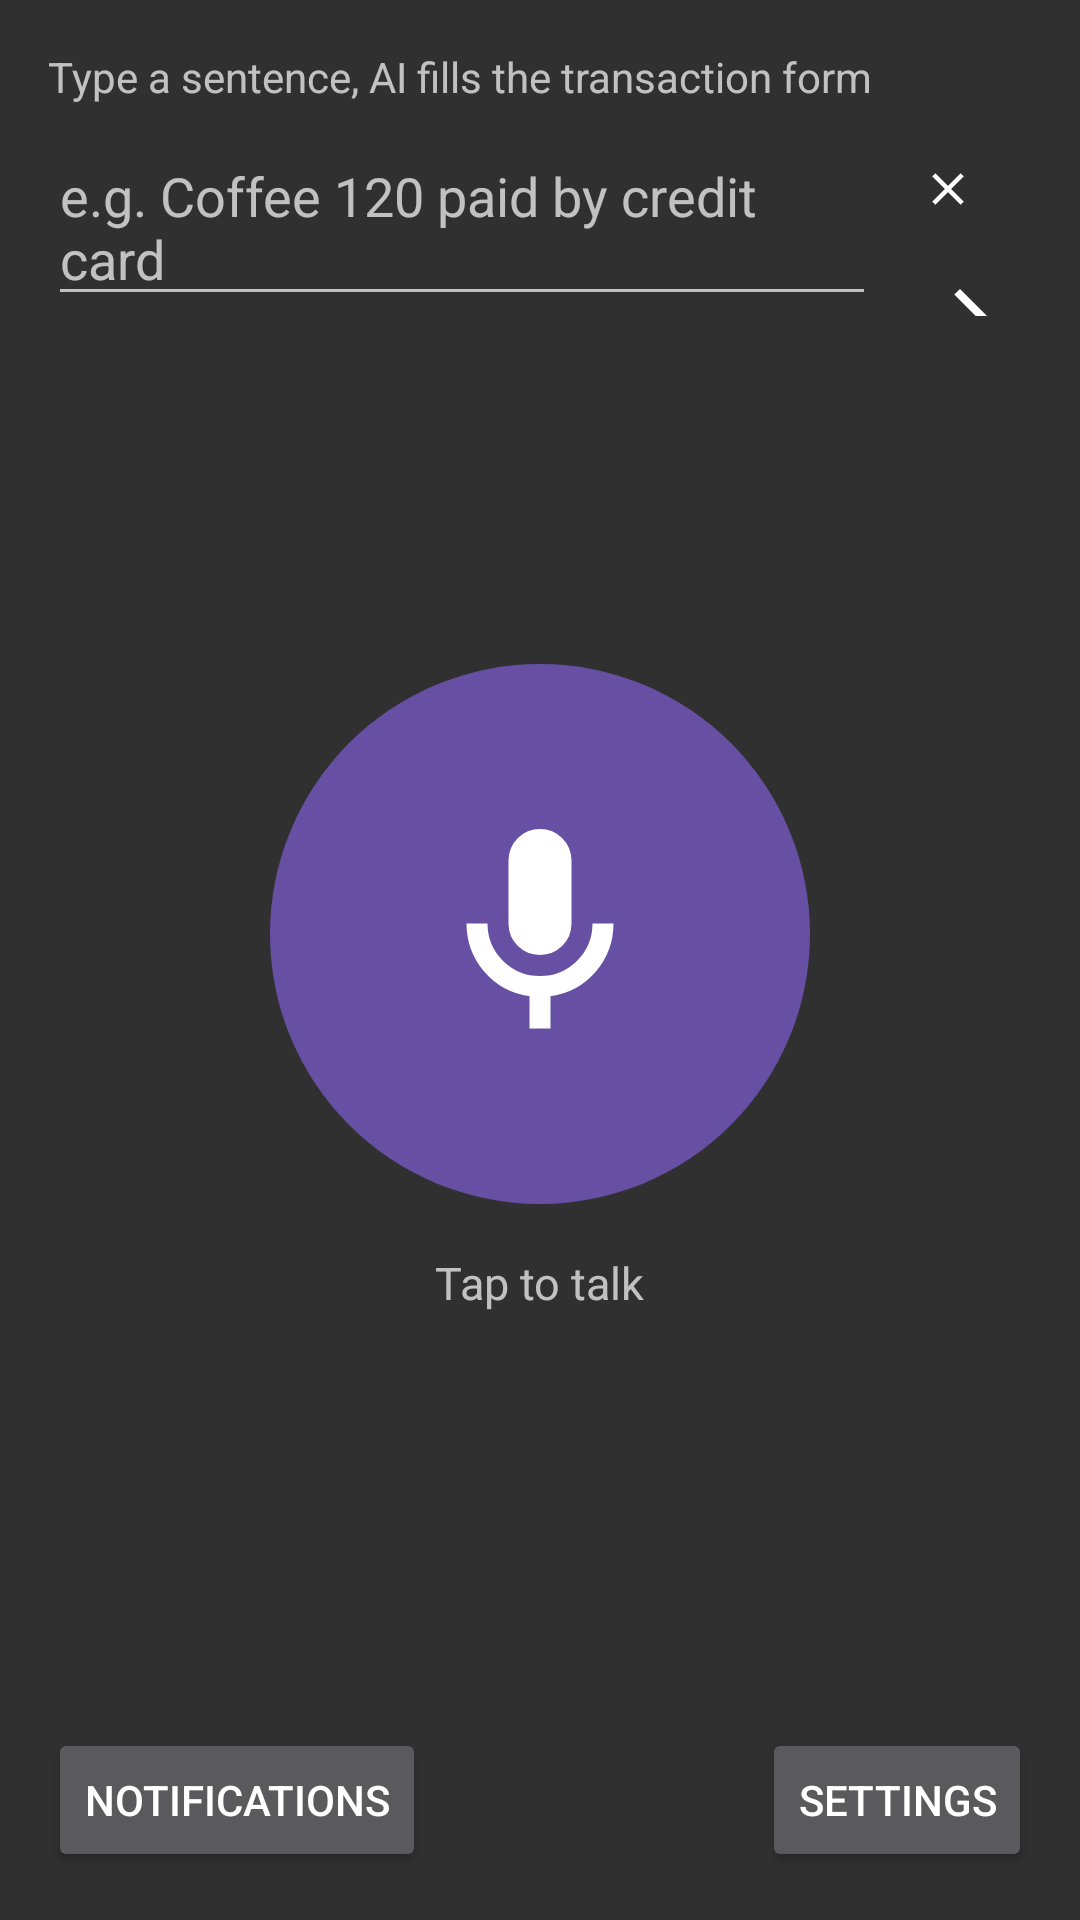

Icon bounding boxes for this 1080x1920 phone screenshot, format detection(x1, y1, x2, y2):
Clear text: detection(932, 173, 964, 205)
